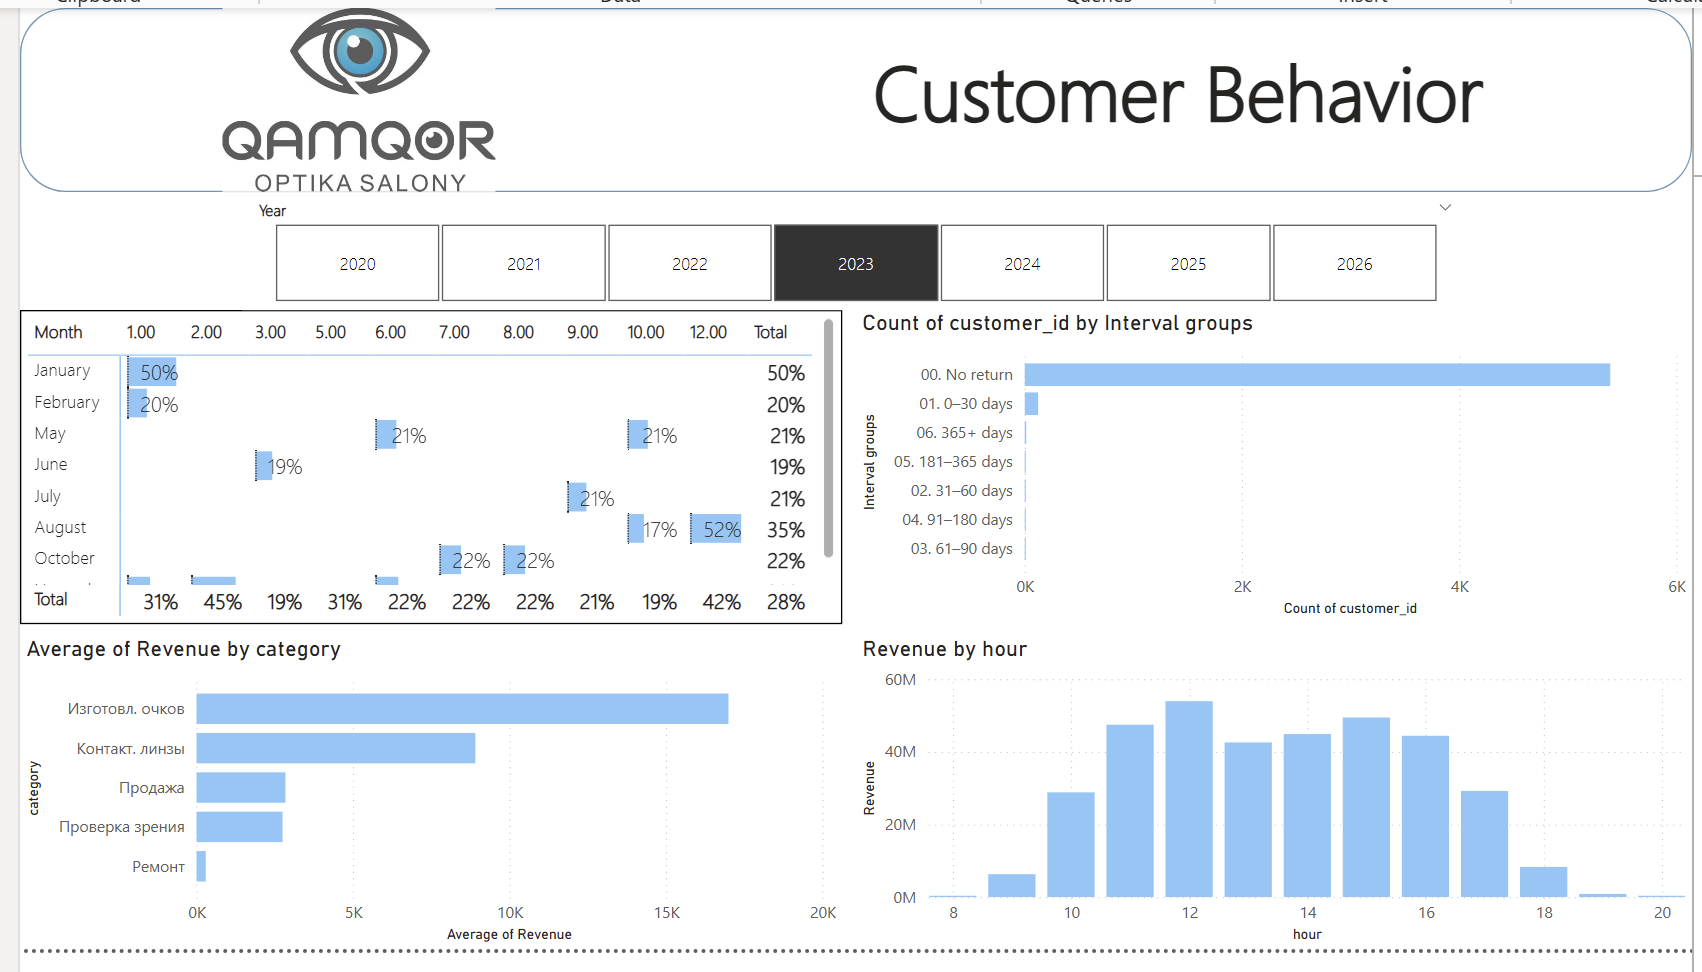

What the dashboard file says about the page in this screenshot:
{"tool":"powerbi","page":{"name":"Customer Behavior","canvas":[1280,720],"ordinal":1},"visuals":[{"type":"pivotTable","fields":{"Columns":["public vw_retention.period_number"],"Values":["Avg(public vw_retention.retention_rate)"],"Rows":["public vw_retention.cohort_month.Variation.Date Hierarchy.Month"]},"box":[0,231.2,629.3,240.4],"z":0},{"type":"slicer","fields":{"Values":["public vw_retention.cohort_year"]},"box":[170,140.9,938.6,90.3],"z":1000},{"type":"clusteredBarChart","fields":{"Category":["public transactions.category"],"Y":["Avg(public transactions.amount_clean)"]},"box":[0,480.8,629.3,238.9],"z":2000},{"type":"clusteredBarChart","fields":{"Y":["Count(retention1.customer_id)"],"Category":["retention1.Interval_Group"]},"box":[640,231.2,640,238.9],"z":3000},{"type":"clusteredColumnChart","fields":{"Category":["benefit_by_hours.hour"],"Y":["Sum(benefit_by_hours.Сумма_чистая)"]},"box":[640,480.8,640,238.9],"z":4000},{"type":"shape","box":[0,0,1280,140.9],"z":5000},{"type":"textbox","box":[519,18.4,734.9,108.7],"z":6000},{"type":"image","box":[0,0,519,140.9],"z":7000}]}

Visuals, with their boxes on the page's 1280x720 design canvas (x1, y1, x2, y2). These are canvas units, not pixel positions in the 1702x972 screenshot, which may show the page scaled, cropped or inside an application window:
pivotTable - public vw_retention.period_number x Avg(public vw_retention.retention_rate): select_region(0, 231, 629, 472)
slicer - public vw_retention.cohort_year: select_region(170, 141, 1109, 231)
clusteredBarChart - public transactions.category x Avg(public transactions.amount_clean): select_region(0, 481, 629, 720)
clusteredBarChart - Count(retention1.customer_id) x retention1.Interval_Group: select_region(640, 231, 1280, 470)
clusteredColumnChart - benefit_by_hours.hour x Sum(benefit_by_hours.Сумма_чистая): select_region(640, 481, 1280, 720)
shape: select_region(0, 0, 1280, 141)
textbox: select_region(519, 18, 1254, 127)
image: select_region(0, 0, 519, 141)
